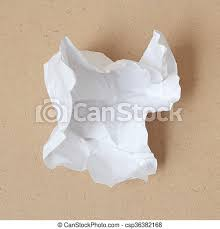crumpled paper: (32, 28, 187, 185)
